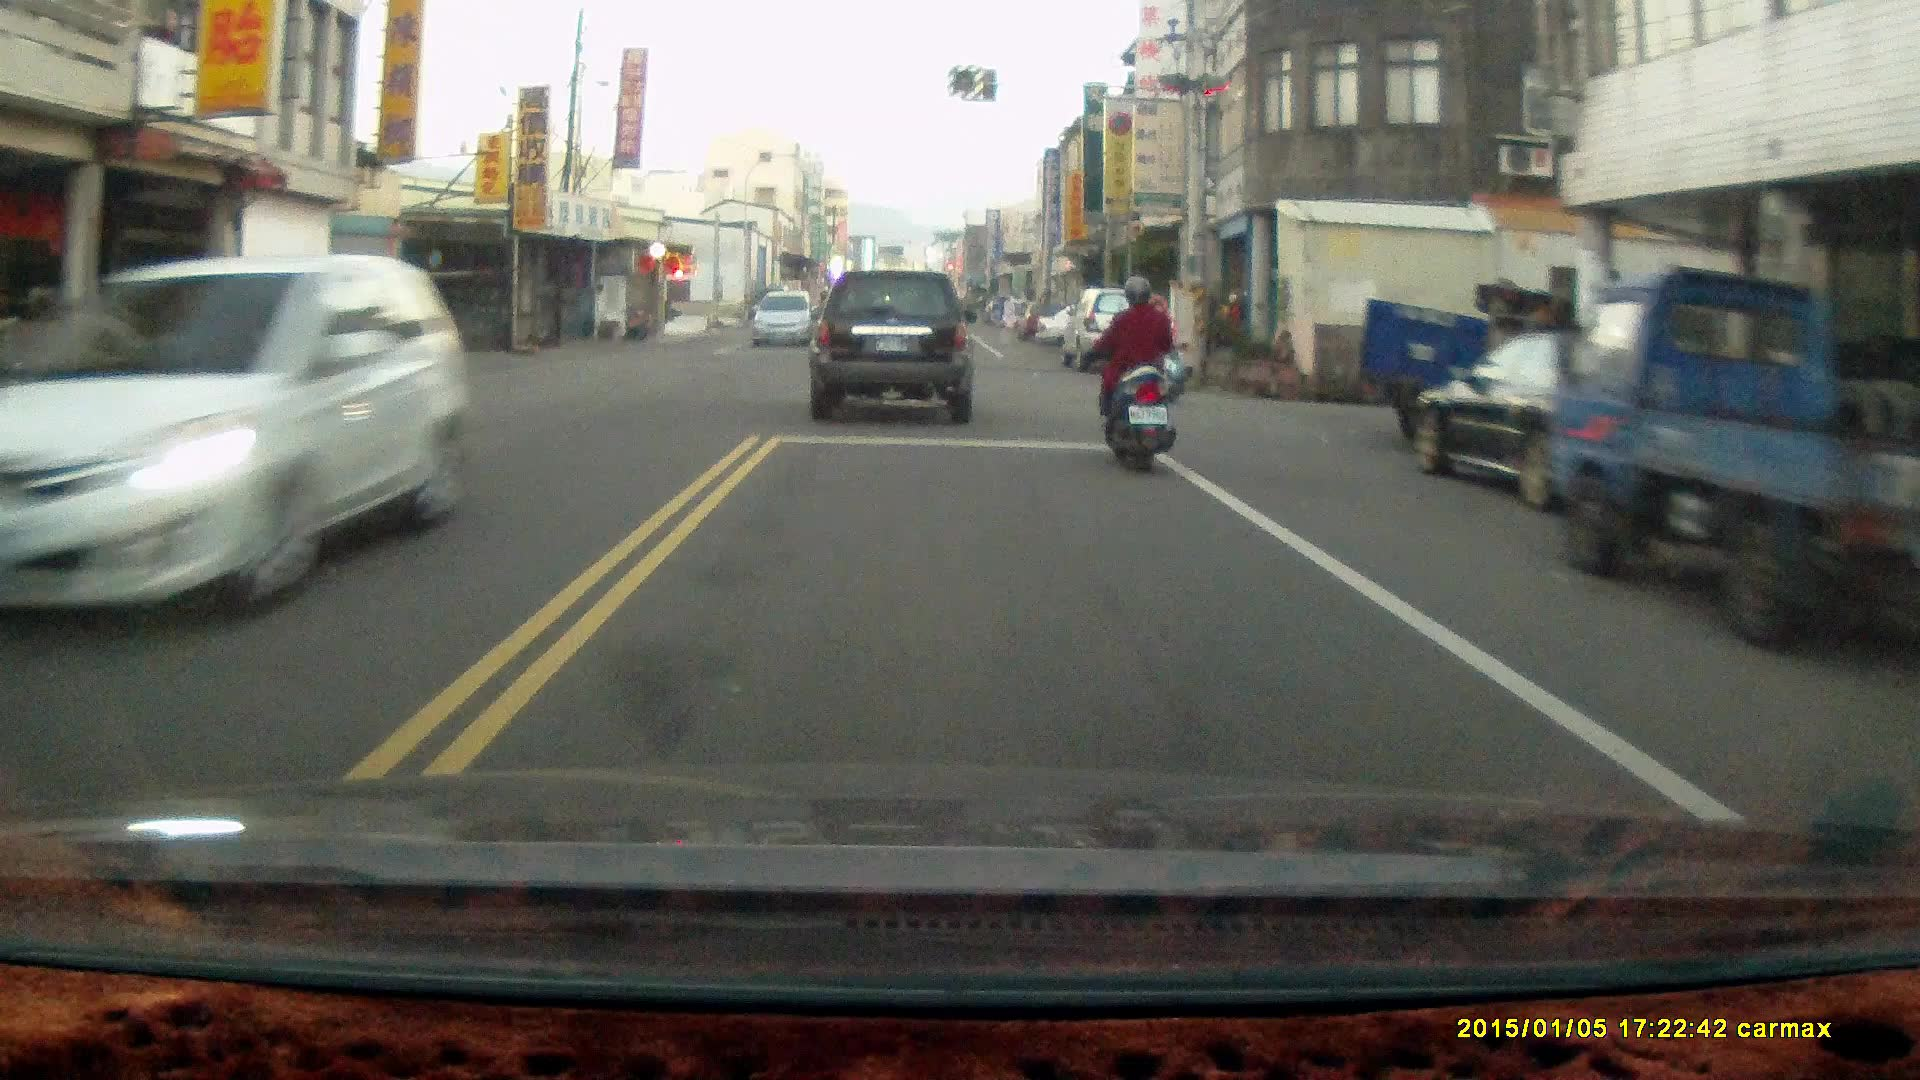rider: (1095, 269, 1175, 470)
vehicle: (1, 254, 473, 625), (1540, 263, 1920, 662), (1402, 326, 1782, 511), (1355, 279, 1625, 453), (807, 266, 981, 429), (1062, 287, 1166, 372), (752, 291, 821, 350)
